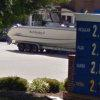Boat: (6, 15, 75, 58)
